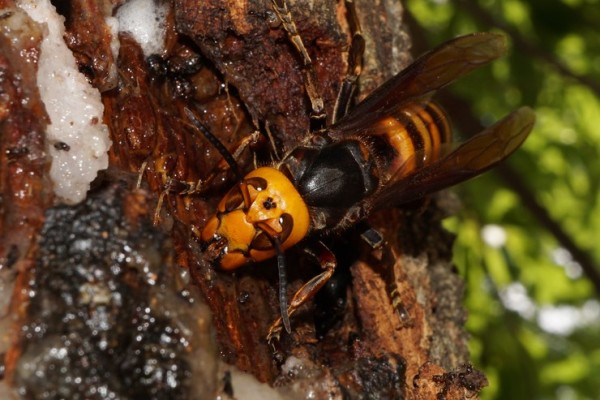asian_giant_hornet: (198, 30, 503, 279)
